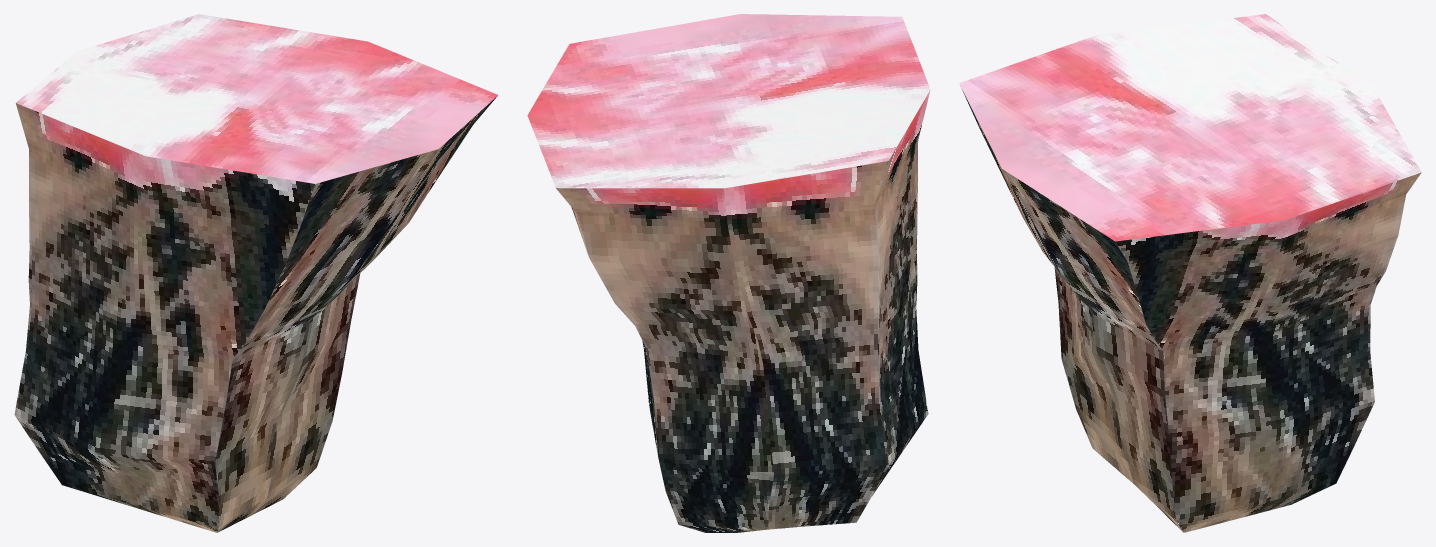
3 views of the same model, side by side, from view 1: azimuth 30°, elevation 25°; view 2: azimuth 150°, elevation 25°; view 3: azimuth 270°, elevation 25° (orthographic). The views are drawn at different scales.
Visible parts, largest first — view 1: SPLICE_3.001; view 2: SPLICE_3.001; view 3: SPLICE_3.001.
Part boxes in pixels (left/top/right/bottom): SPLICE_3.001: left=14, top=14, right=497, bottom=532; SPLICE_3.001: left=527, top=14, right=930, bottom=532; SPLICE_3.001: left=959, top=14, right=1421, bottom=532.
Size of the model in its own units: 1.3 by 1.33 by 1.31.
Materials: 1 (1 with a texture image).
